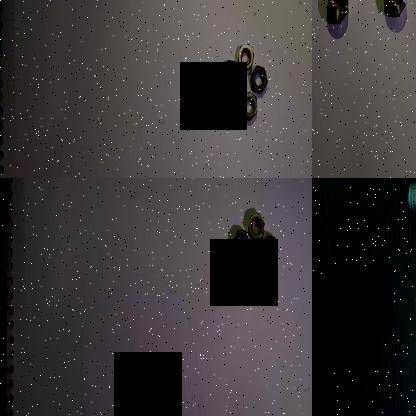NUTS: (238, 89, 261, 123), (249, 254, 270, 291), (219, 88, 239, 124), (219, 57, 240, 89), (245, 209, 266, 241), (232, 225, 252, 258), (324, 0, 350, 25), (236, 40, 254, 74), (230, 260, 248, 294), (382, 0, 408, 23), (250, 61, 268, 94), (260, 231, 278, 264)
